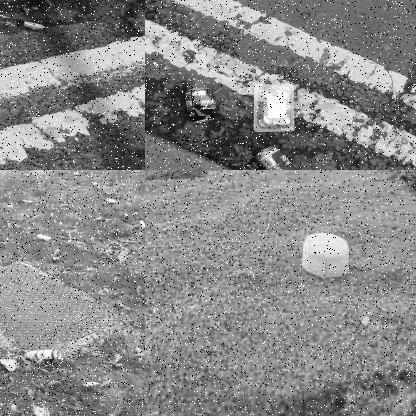glass: (12, 346, 67, 367)
metal: (176, 82, 218, 129), (256, 142, 300, 169)
plastic: (301, 232, 354, 280), (251, 82, 297, 133)
